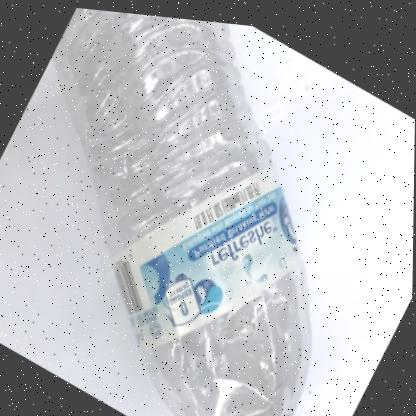Plastic: (53, 6, 312, 416)
